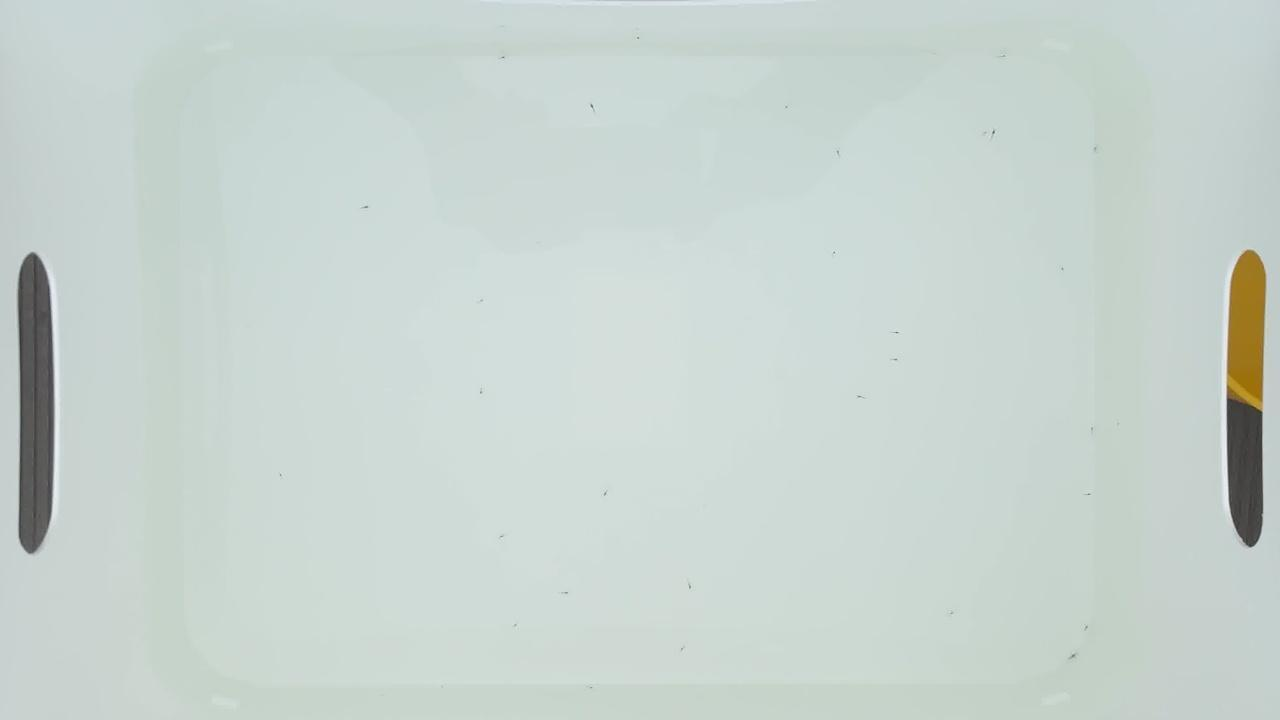shrimp: (561, 589, 574, 597), (892, 329, 905, 337), (853, 395, 866, 403), (1087, 428, 1100, 436), (474, 389, 487, 396), (496, 536, 509, 543), (510, 621, 523, 628), (584, 685, 597, 692), (678, 644, 691, 651), (683, 580, 696, 587), (600, 489, 613, 496), (356, 205, 369, 212), (476, 295, 489, 302), (585, 102, 598, 109), (495, 53, 508, 60), (633, 35, 646, 42), (782, 103, 795, 110), (831, 149, 844, 156), (978, 128, 991, 135), (987, 125, 1000, 132), (997, 53, 1010, 60), (1090, 148, 1103, 155), (1056, 266, 1069, 273), (887, 358, 900, 365), (1112, 424, 1125, 431), (1083, 491, 1096, 498), (1080, 625, 1093, 632), (945, 611, 958, 618), (274, 470, 286, 477), (369, 164, 381, 171), (829, 253, 841, 260), (1067, 652, 1079, 659)
